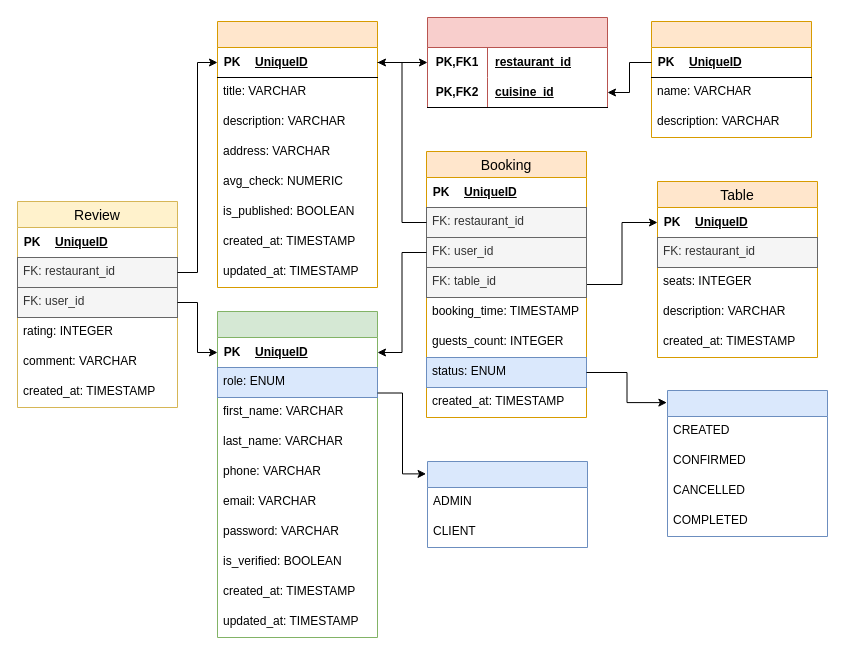
Some shapes in this 845 by 658 pixel diagram are drawn without their labels. The box of each missing label's shape, as (x1, y1, x2, y2) in pixels:
Booking_status: (666, 390, 828, 536)
Cuisine: (650, 20, 812, 138)
Restaurant: (216, 20, 378, 288)
Restaurant_Cuisine: (426, 16, 608, 108)
Roles: (426, 460, 588, 548)
User: (216, 310, 378, 638)
